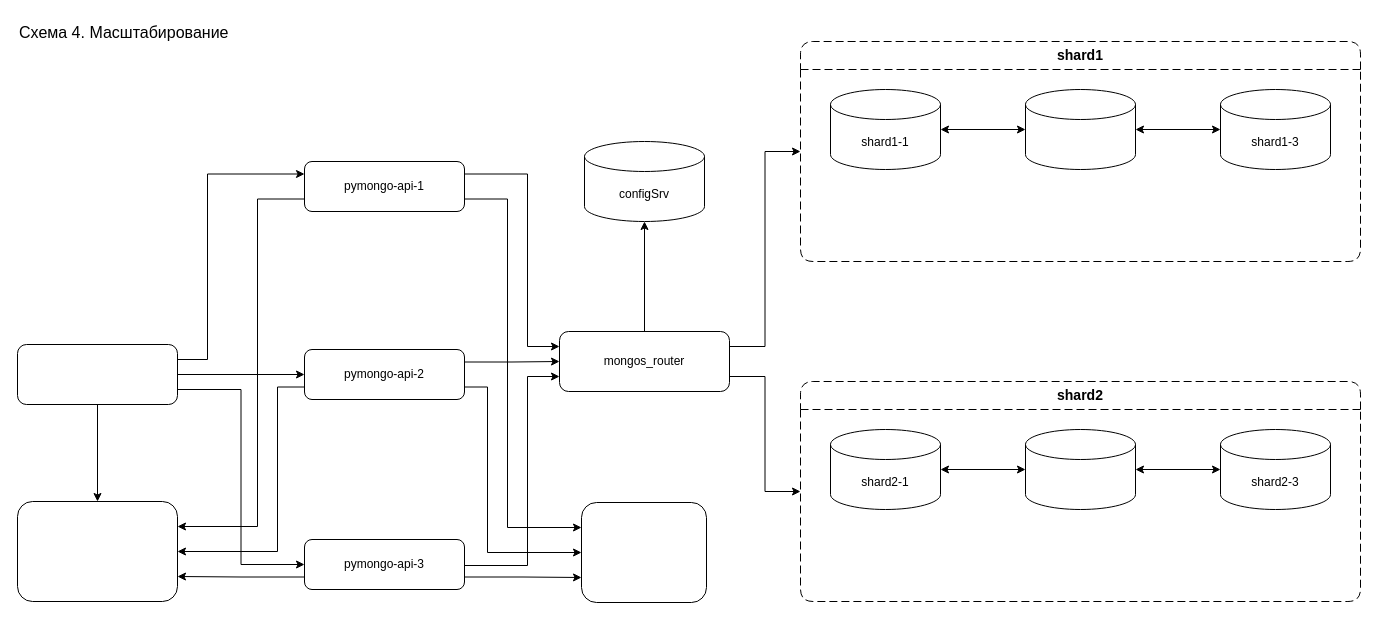
Image size: 1378x620. Some labels were removed from this diagram. Here are the shapes that lost their labels. From the top down, the box of each, then its label:
(1024, 88, 1136, 170): shard1-2
(16, 344, 178, 404): API Gateway
(1024, 428, 1136, 510): shard2-2
(16, 500, 178, 602): Consul
(580, 502, 706, 602): redis
